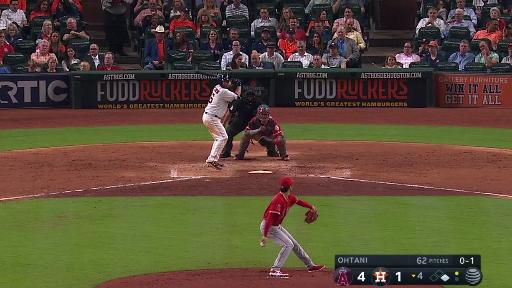pitcher: (259, 176, 330, 276)
